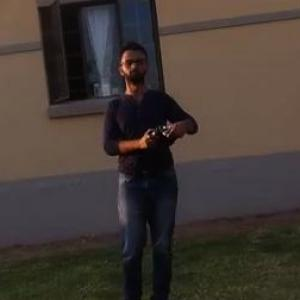follow: (96, 34, 202, 299)
